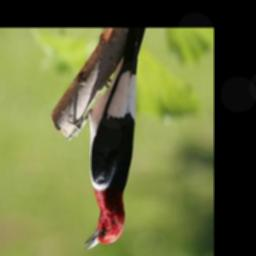Woodpecker: (80, 29, 148, 254)
